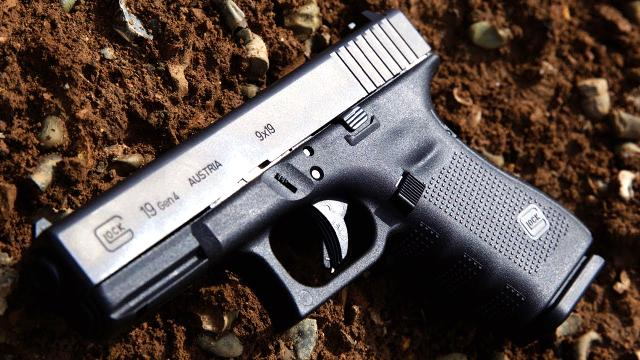pistol: (31, 2, 621, 360)
